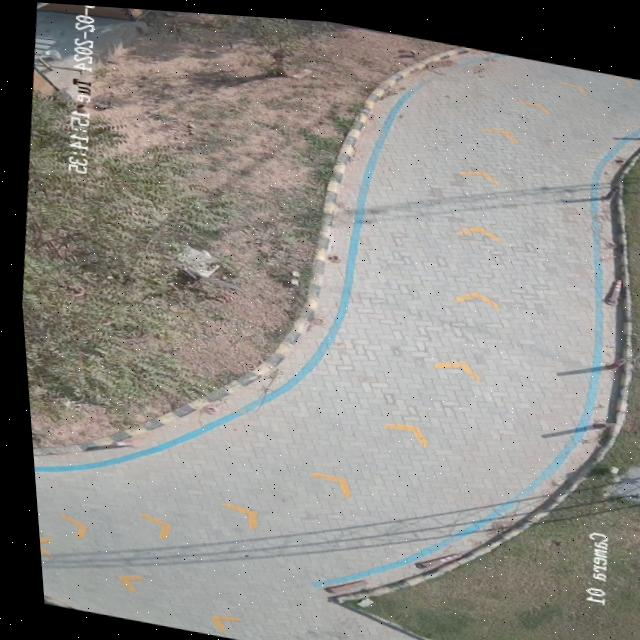No Car: (17, 2, 640, 640)
